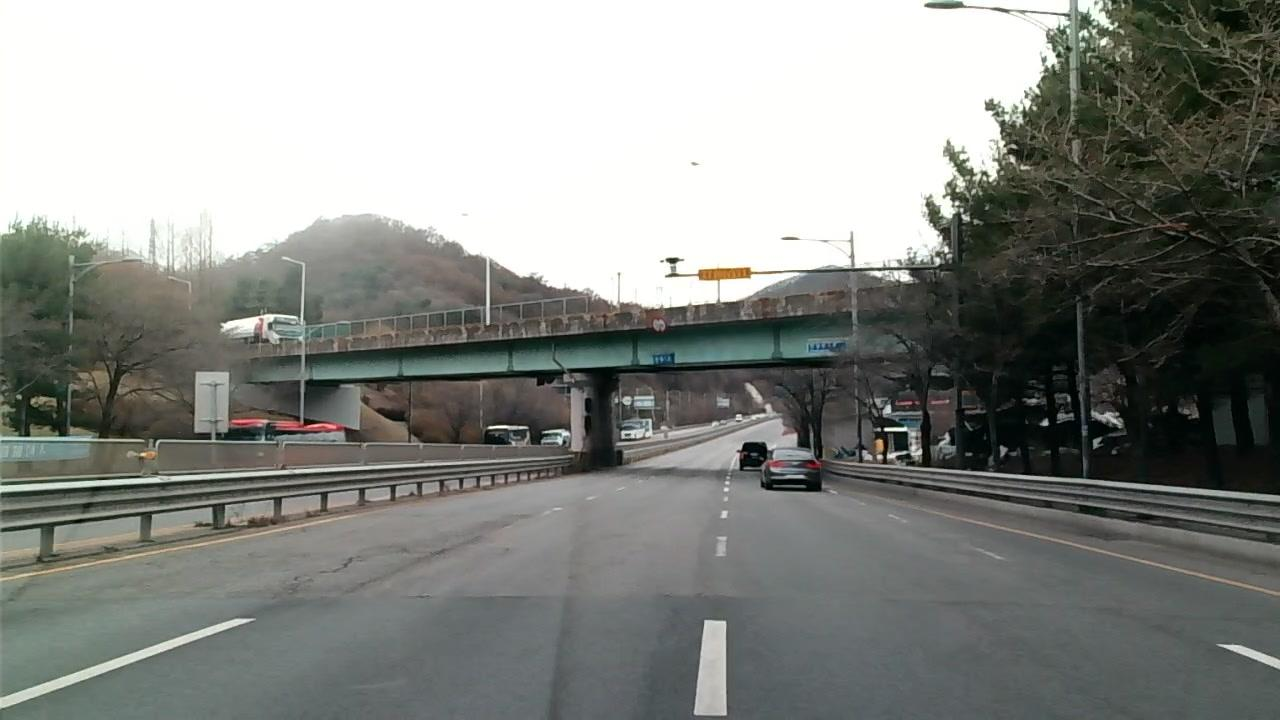banner: (347, 537, 483, 606), (291, 547, 365, 589)
